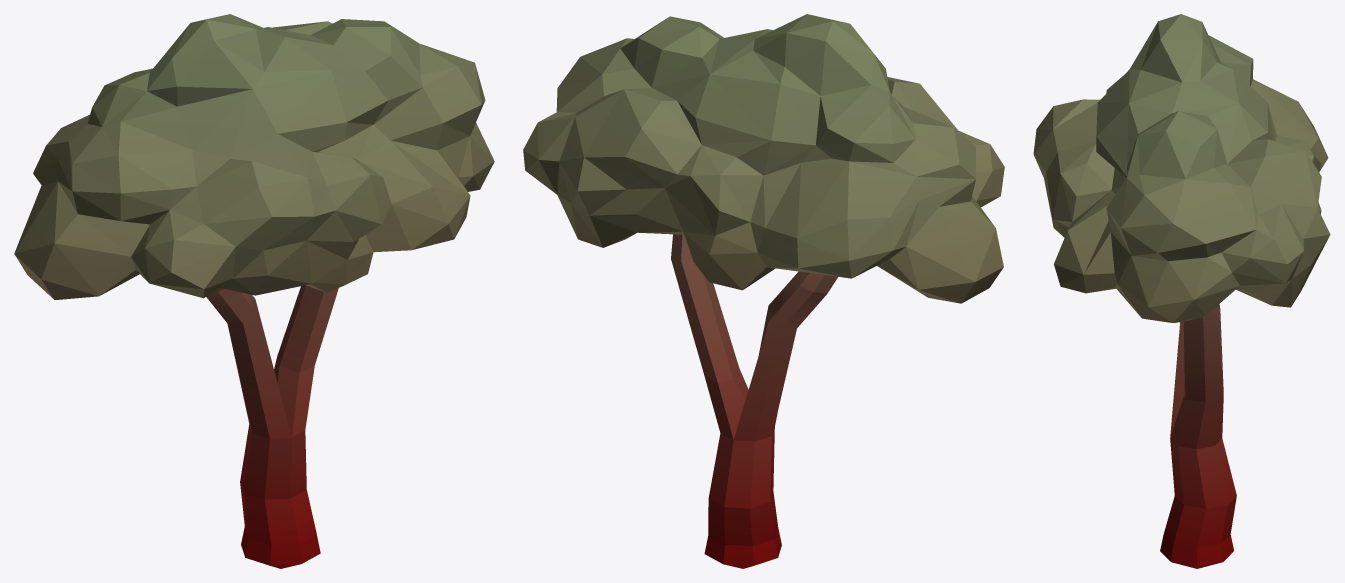
Rendered from synty-tree-round-02.gltf.
The picture shows the model from 3 angles, left to right: view 1: azimuth 30°, elevation 25°; view 2: azimuth 150°, elevation 25°; view 3: azimuth 270°, elevation 25°; orthographic projection. The views are drawn at different scales.
Visible parts, largest first — view 1: SM_Tree_Round_02; view 2: SM_Tree_Round_02; view 3: SM_Tree_Round_02.
Part boxes in pixels (x1,y1,x2,y2): SM_Tree_Round_02: [14, 14, 494, 568]; SM_Tree_Round_02: [523, 14, 1004, 568]; SM_Tree_Round_02: [1033, 14, 1330, 568].
Size of the model in its own units: 3.86 by 4.73 by 2.46.
1 material, 1 textured.
